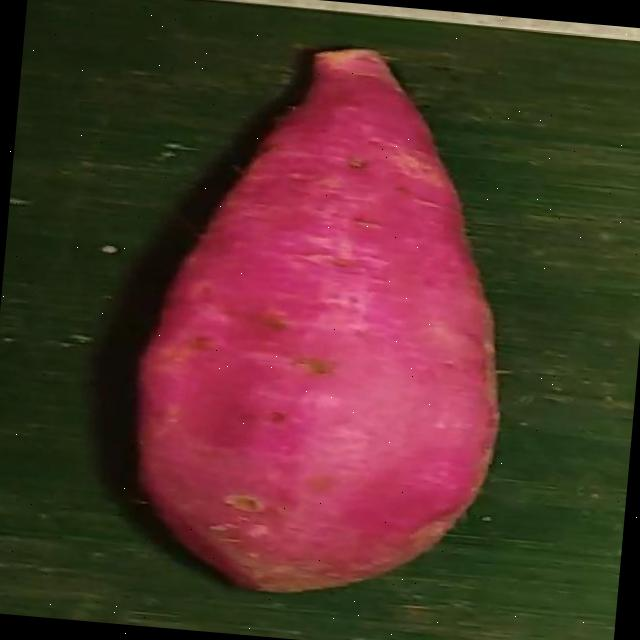Sweet Potato: (136, 49, 502, 591)
